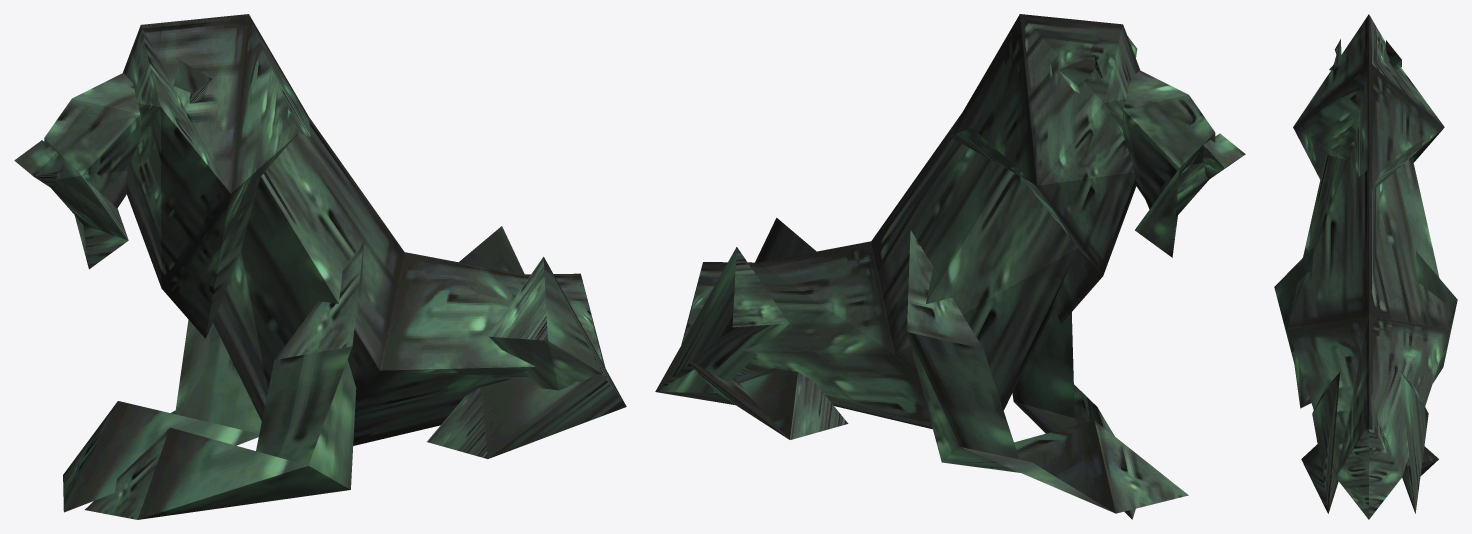
File: Statue_Löwe_132.glb
3 views of the same model, side by side, from view 1: azimuth 30°, elevation 25°; view 2: azimuth 150°, elevation 25°; view 3: azimuth 270°, elevation 25° (orthographic). The views are drawn at different scales.
Visible parts, largest first — view 1: pSphereShape1, pSphereShape2, pCylinderShape2, pCylinderShape4, pCylinderShape1, pSphereShape3, pCylinderShape3, pSphereShape4, pSphereShape7; view 2: pSphereShape1, pSphereShape2, pCylinderShape1, pCylinderShape3, pSphereShape3, pCylinderShape2, pCylinderShape4, pSphereShape4, pSphereShape5; view 3: pSphereShape1, pSphereShape2, pCylinderShape4, pCylinderShape3, pCylinderShape2, pCylinderShape1, pSphereShape5.
Boxes of the visible parts, x1,y1,x2,y2 form: pSphereShape1: (213, 117, 605, 445); pSphereShape2: (123, 14, 310, 338); pCylinderShape2: (85, 242, 363, 519); pCylinderShape4: (427, 256, 626, 458); pCylinderShape1: (63, 319, 261, 512); pSphereShape3: (44, 73, 141, 269); pCylinderShape3: (459, 226, 524, 274); pSphereShape4: (14, 140, 63, 189); pSphereShape7: (171, 60, 211, 103); pSphereShape1: (681, 113, 1077, 429); pSphereShape2: (950, 14, 1139, 323); pCylinderShape1: (907, 230, 1188, 513); pCylinderShape3: (655, 247, 848, 439); pSphereShape3: (1122, 70, 1215, 257); pCylinderShape2: (1012, 308, 1135, 519); pCylinderShape4: (755, 217, 816, 262); pSphereShape4: (1192, 133, 1245, 179); pSphereShape5: (1058, 55, 1102, 93); pSphereShape1: (1287, 155, 1450, 519); pSphereShape2: (1293, 14, 1444, 191); pCylinderShape4: (1301, 371, 1340, 513); pCylinderShape3: (1400, 372, 1438, 513); pCylinderShape2: (1274, 247, 1313, 408); pCylinderShape1: (1416, 251, 1457, 383); pSphereShape5: (1385, 40, 1401, 69).
Bounding box in the file's own units: 0.5223 × 0.42 × 0.1967.
10 materials, 10 textured.
